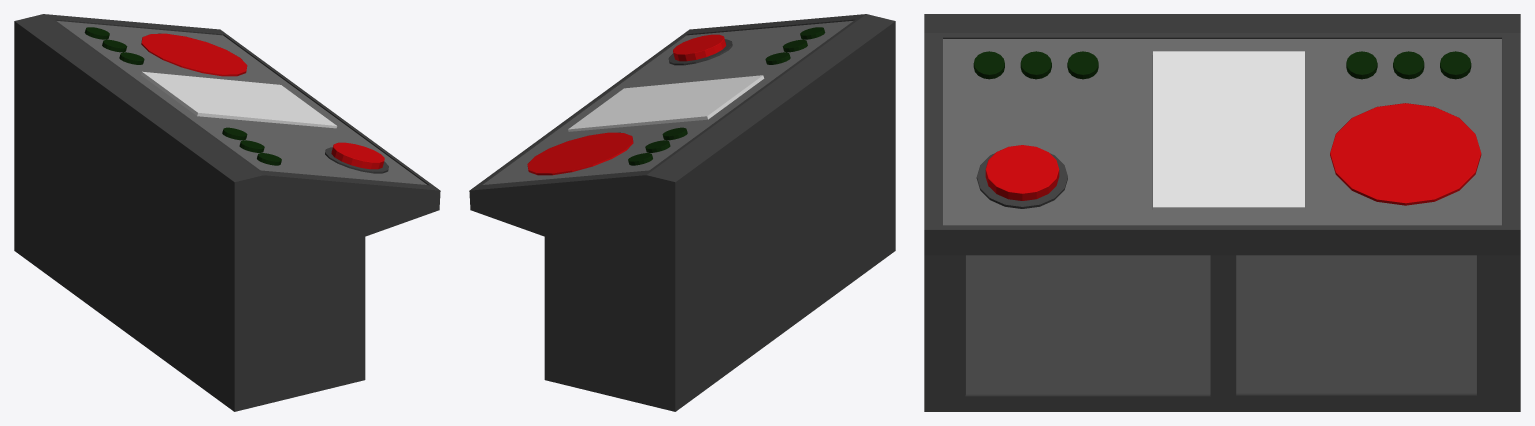
The model's file is ControlPanel_07.fbx.
The picture shows the model from 3 angles, left to right: view 1: azimuth 30°, elevation 25°; view 2: azimuth 150°, elevation 25°; view 3: azimuth 270°, elevation 25°; orthographic projection. The views are drawn at different scales.
Visible parts, largest first — view 1: Base, BooleanScreen, CircleBoolean; view 2: Base, BooleanScreen, CircleBoolean; view 3: Base, BooleanScreen, CircleBoolean.
Part boxes in pixels (left/top/right/bottom): Base: left=14, top=14, right=440, bottom=411; BooleanScreen: left=141, top=71, right=337, bottom=128; CircleBoolean: left=141, top=33, right=247, bottom=76; Base: left=469, top=14, right=895, bottom=411; BooleanScreen: left=568, top=75, right=764, bottom=131; CircleBoolean: left=527, top=132, right=633, bottom=175; Base: left=924, top=14, right=1520, bottom=411; BooleanScreen: left=1153, top=51, right=1304, bottom=209; CircleBoolean: left=1330, top=103, right=1481, bottom=205.
Size of the model in its own units: 135 by 144 by 249.
